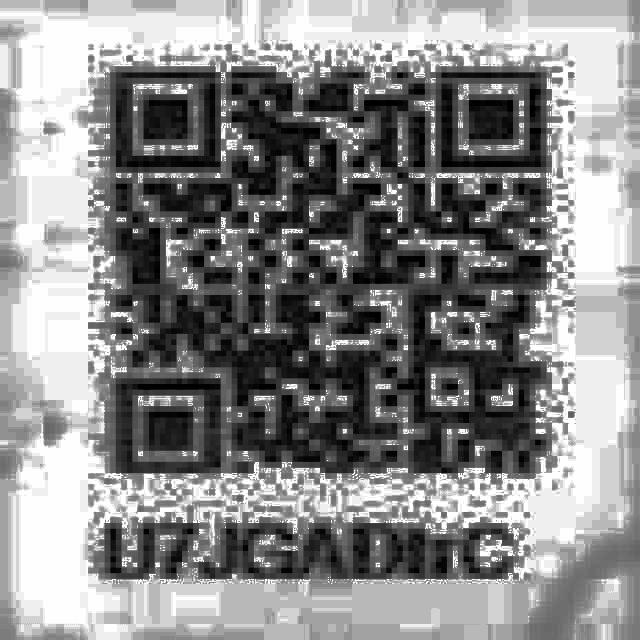qr_code: (89, 48, 561, 487)
